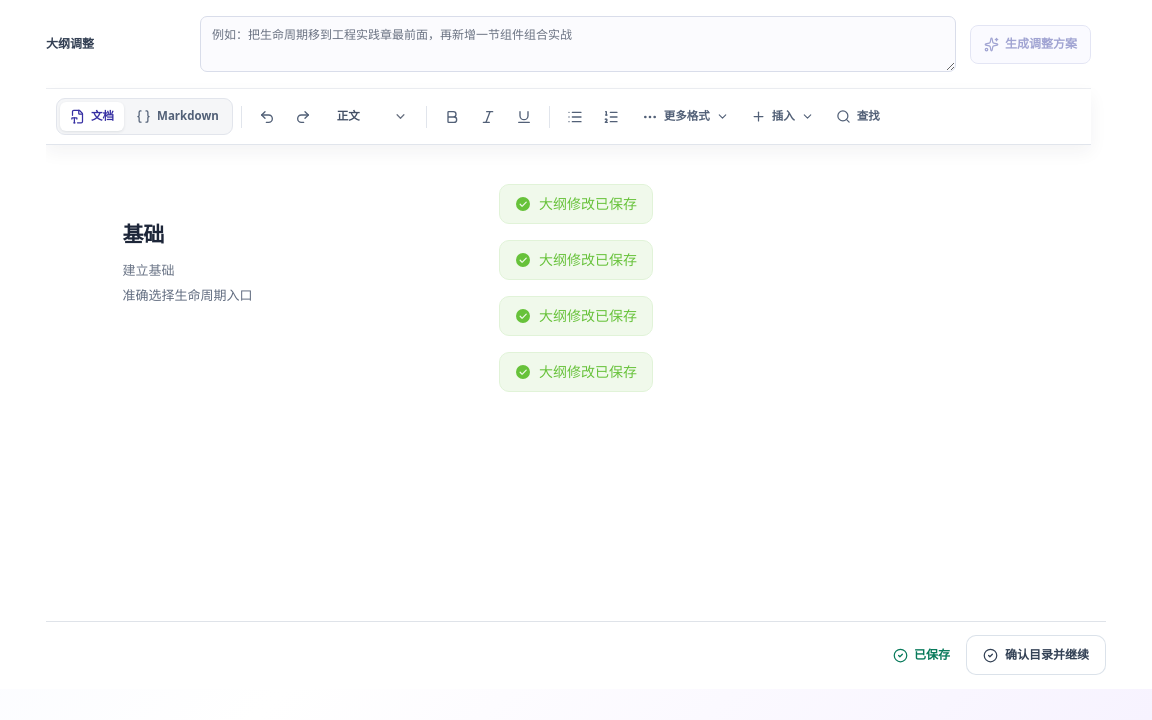
it: 一句话调整课程目录 › 先保存手动修改，再生成差异并通过现有草稿接口应用整套方案
The width and height of the screenshot is (1152, 720).
Step 1. Clear the text box with test id "outline-rich-editor" → (143, 234), box [122, 220, 252, 304]
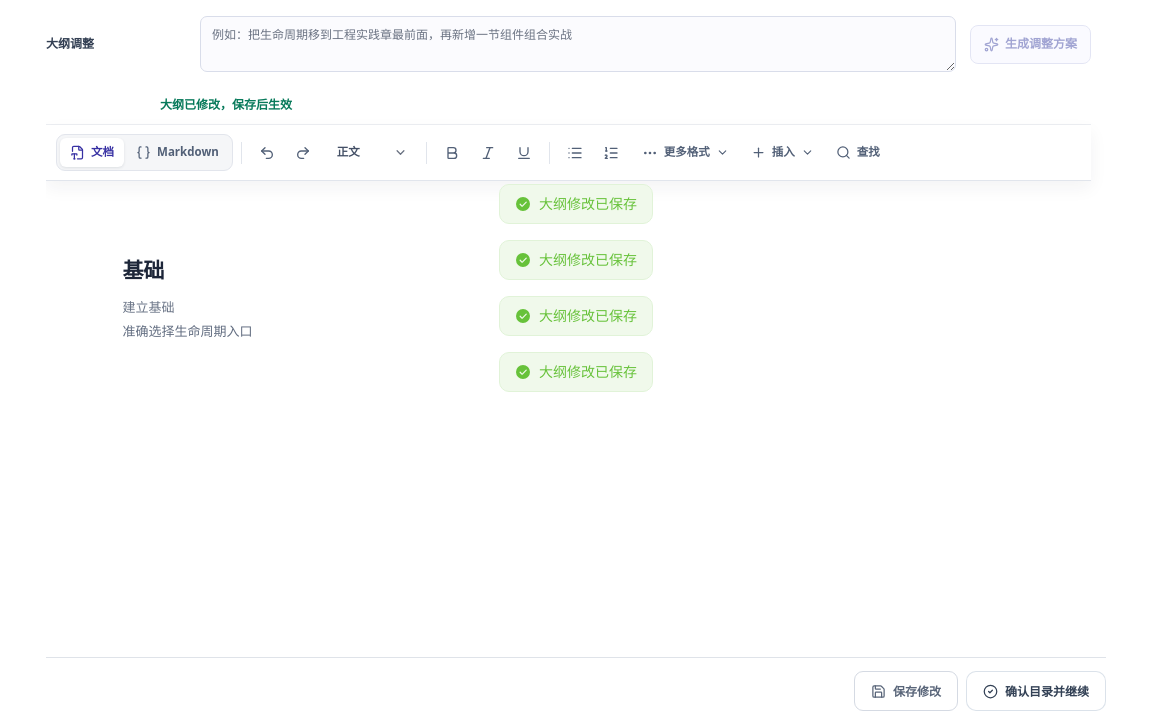
Step 2. Type "新增一节组件组合，并把生命周期放在最前面" into the text box labelled "大纲调整" → (578, 44), box [200, 16, 956, 72]
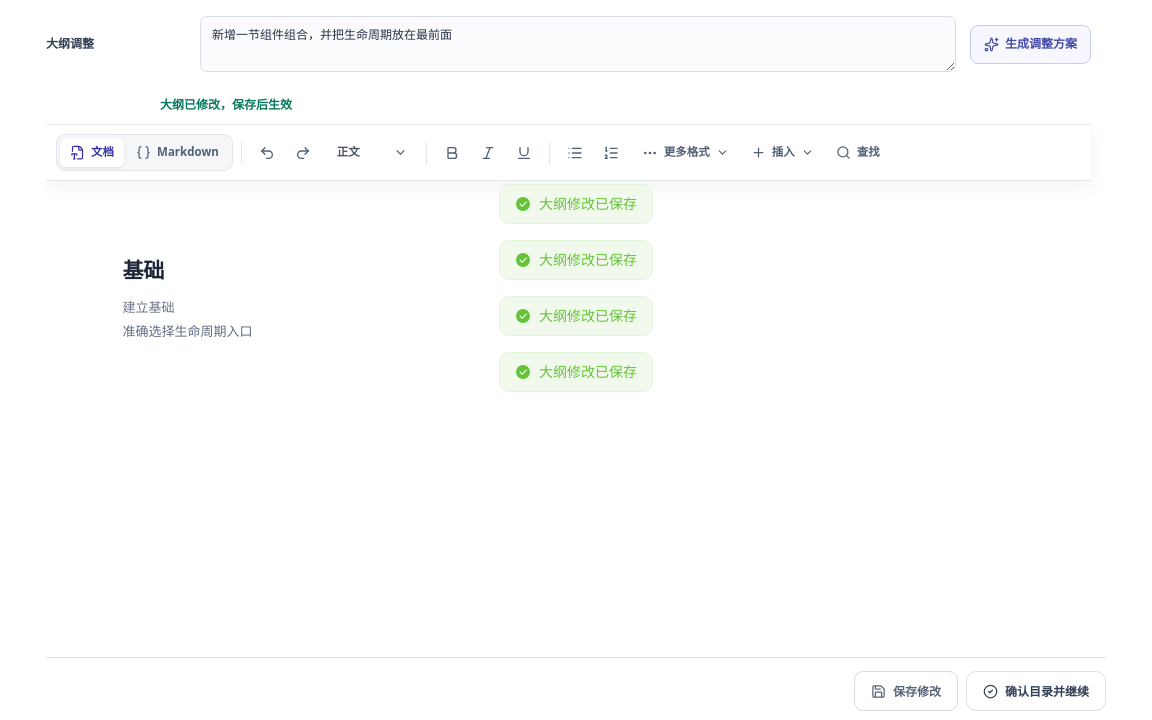
Step 3. Click the button with test id "generate-outline-adjustment" → (1030, 44), box [970, 24, 1091, 64]
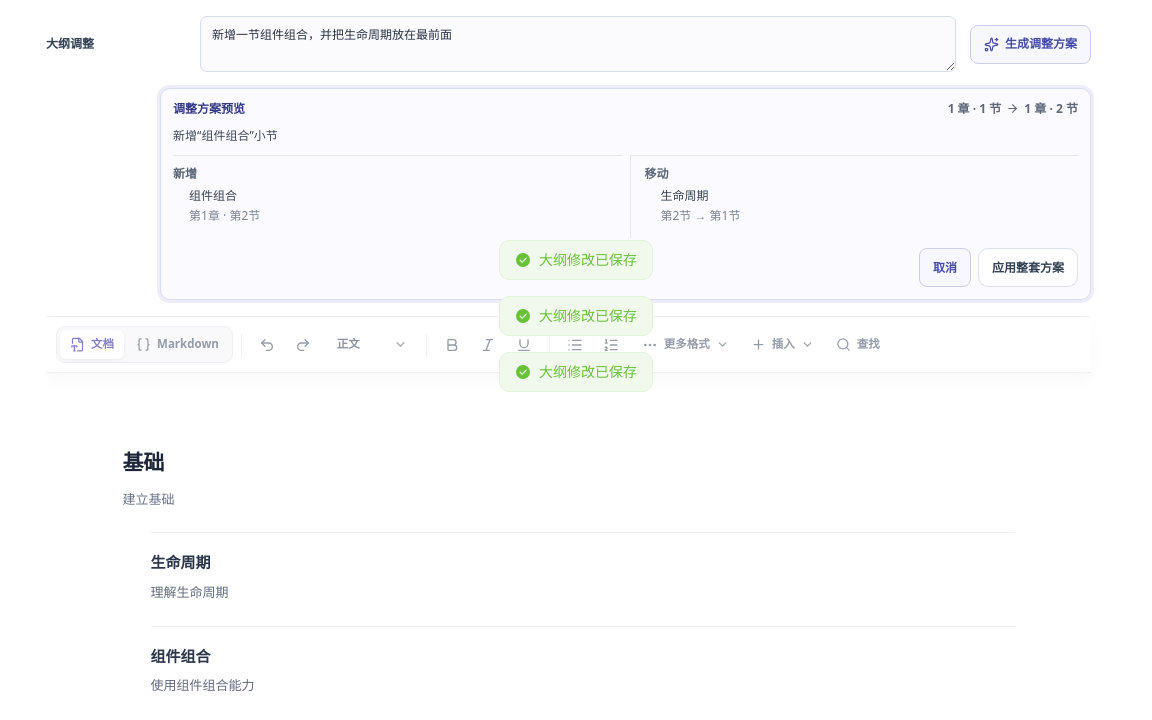
Check: the text "新增“组件组合”小节" is shown, box [173, 127, 278, 144]
Check: the text "第2节" is shown, box [189, 207, 260, 224]
Check: the text "第1节" is shown, box [660, 207, 740, 224]
Step 4. Click the button with test id "apply-outline-adjustment" → (1028, 268), box [978, 248, 1078, 287]
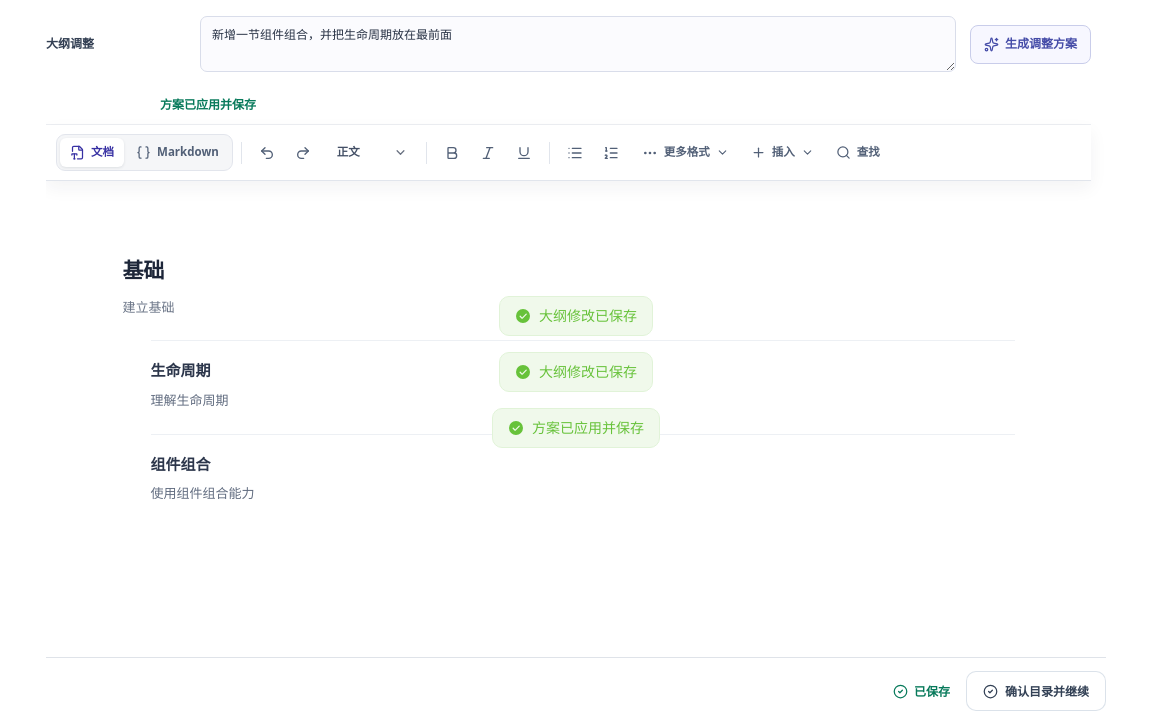
Check: the text "方案已应用并保存" is shown, box [160, 96, 256, 113]
